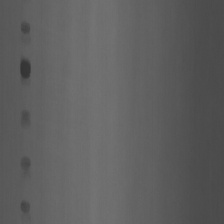oil_spot: (18, 52, 35, 86), (18, 14, 35, 40), (18, 151, 34, 173), (19, 107, 34, 128), (20, 195, 33, 214)
